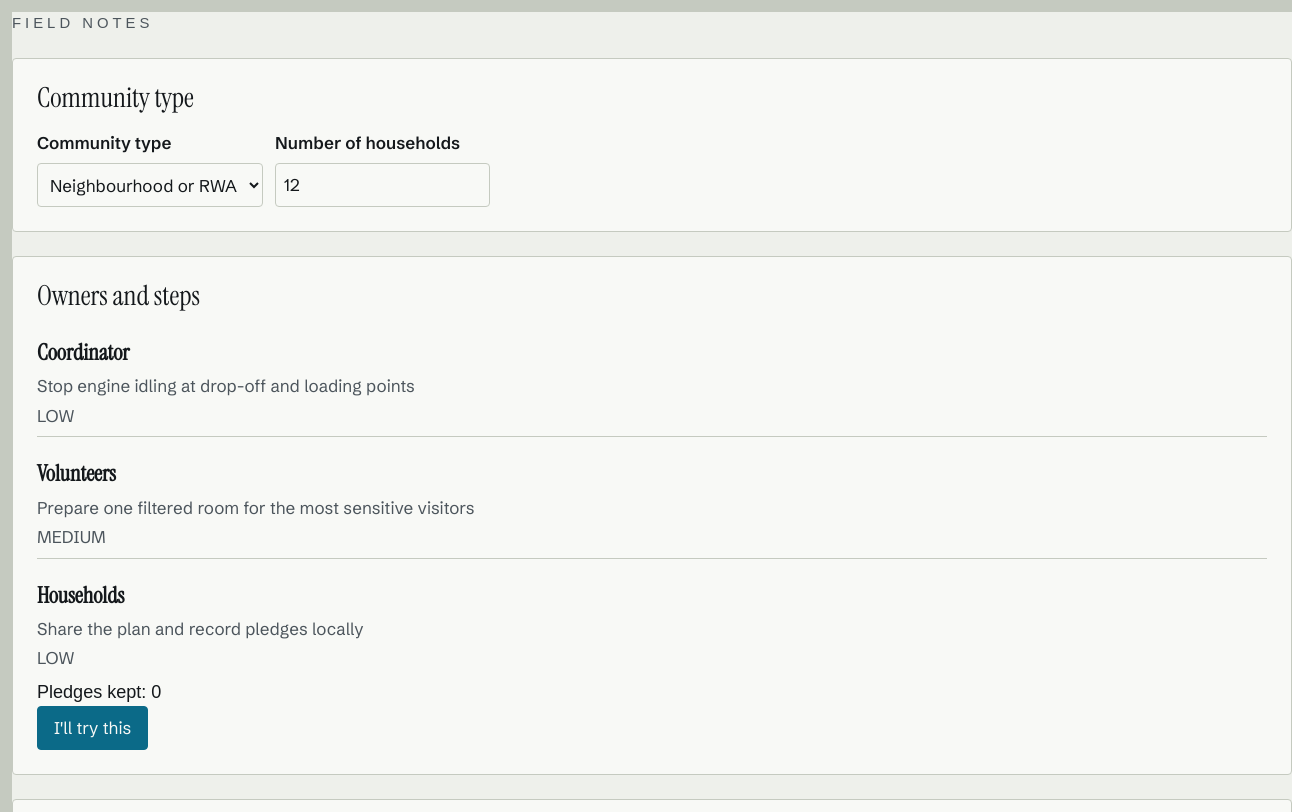
it: P1 screens › generates a playbook and counts local pledges
Expected: the dropdown labelled "Community type" is shown, [37,163,263,207]
Expected: the heading "Owners and steps" is shown, [37,278,200,314]
Click the button "I'll try this" at (93, 728), box [37,706,148,750]
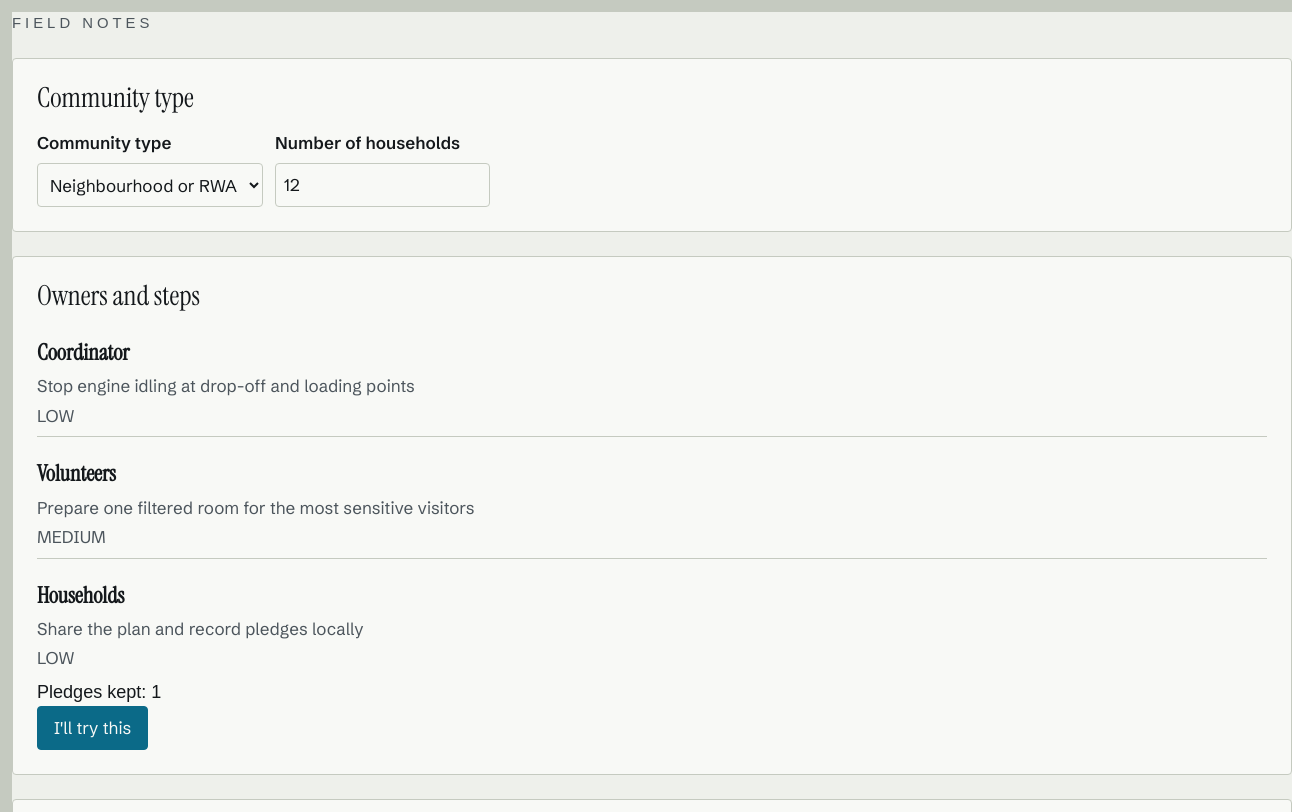
Result: the text "Pledges kept: 1" is shown at [37,682,161,702]
